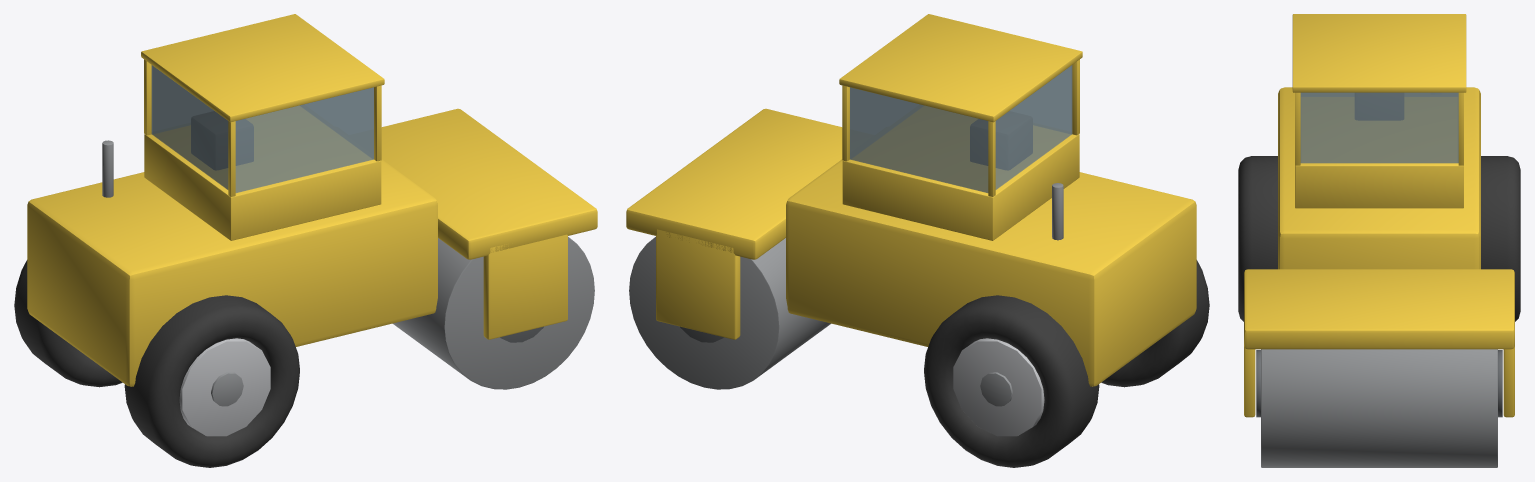
Rendered from EQP-CMP-002_anim.glb.
The picture shows the model from 3 angles, left to right: view 1: azimuth 30°, elevation 25°; view 2: azimuth 150°, elevation 25°; view 3: azimuth 270°, elevation 25°; orthographic projection. The views are drawn at different scales.
Visible parts, largest first — view 1: EQP-CMP-002_anim3, EQP-CMP-002_anim0, EQP-CMP-002_anim2, EQP-CMP-002_anim1; view 2: EQP-CMP-002_anim3, EQP-CMP-002_anim1, EQP-CMP-002_anim2, EQP-CMP-002_anim0; view 3: EQP-CMP-002_anim3, EQP-CMP-002_anim2, EQP-CMP-002_anim0, EQP-CMP-002_anim1.
Boxes of the visible parts, left/top/right/bottom form: EQP-CMP-002_anim3: left=27, top=14, right=597, bottom=386; EQP-CMP-002_anim0: left=124, top=295, right=299, bottom=467; EQP-CMP-002_anim2: left=393, top=237, right=594, bottom=389; EQP-CMP-002_anim1: left=14, top=260, right=122, bottom=387; EQP-CMP-002_anim3: left=626, top=14, right=1196, bottom=386; EQP-CMP-002_anim1: left=924, top=295, right=1099, bottom=467; EQP-CMP-002_anim2: left=629, top=237, right=830, bottom=389; EQP-CMP-002_anim0: left=1101, top=260, right=1209, bottom=387; EQP-CMP-002_anim3: left=1244, top=14, right=1514, bottom=417; EQP-CMP-002_anim2: left=1256, top=349, right=1502, bottom=467; EQP-CMP-002_anim0: left=1238, top=156, right=1277, bottom=321; EQP-CMP-002_anim1: left=1481, top=156, right=1520, bottom=321.
Bounding box in the file's own units: 4.55 × 3.1 × 2.5.
